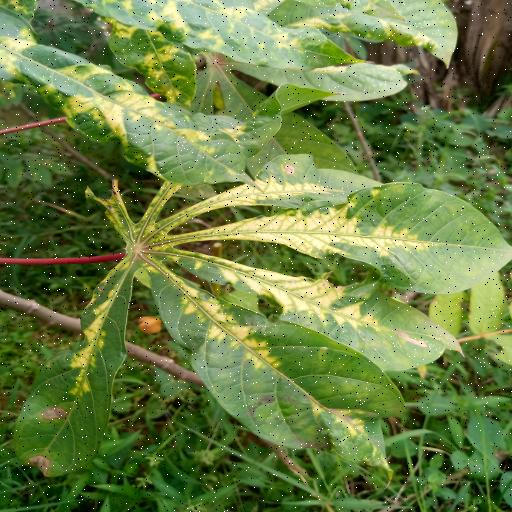Cassava_Mosaic: (9, 69, 512, 483)
